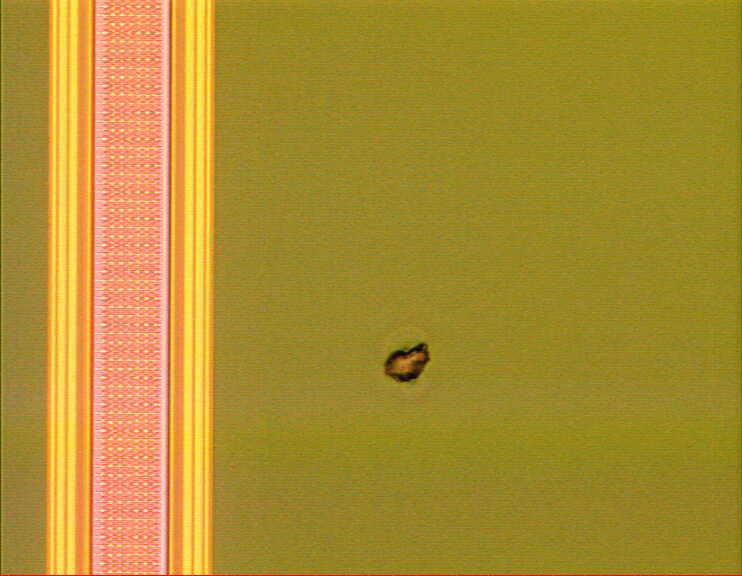PIQ PARTICLE: (380, 332, 436, 397)
